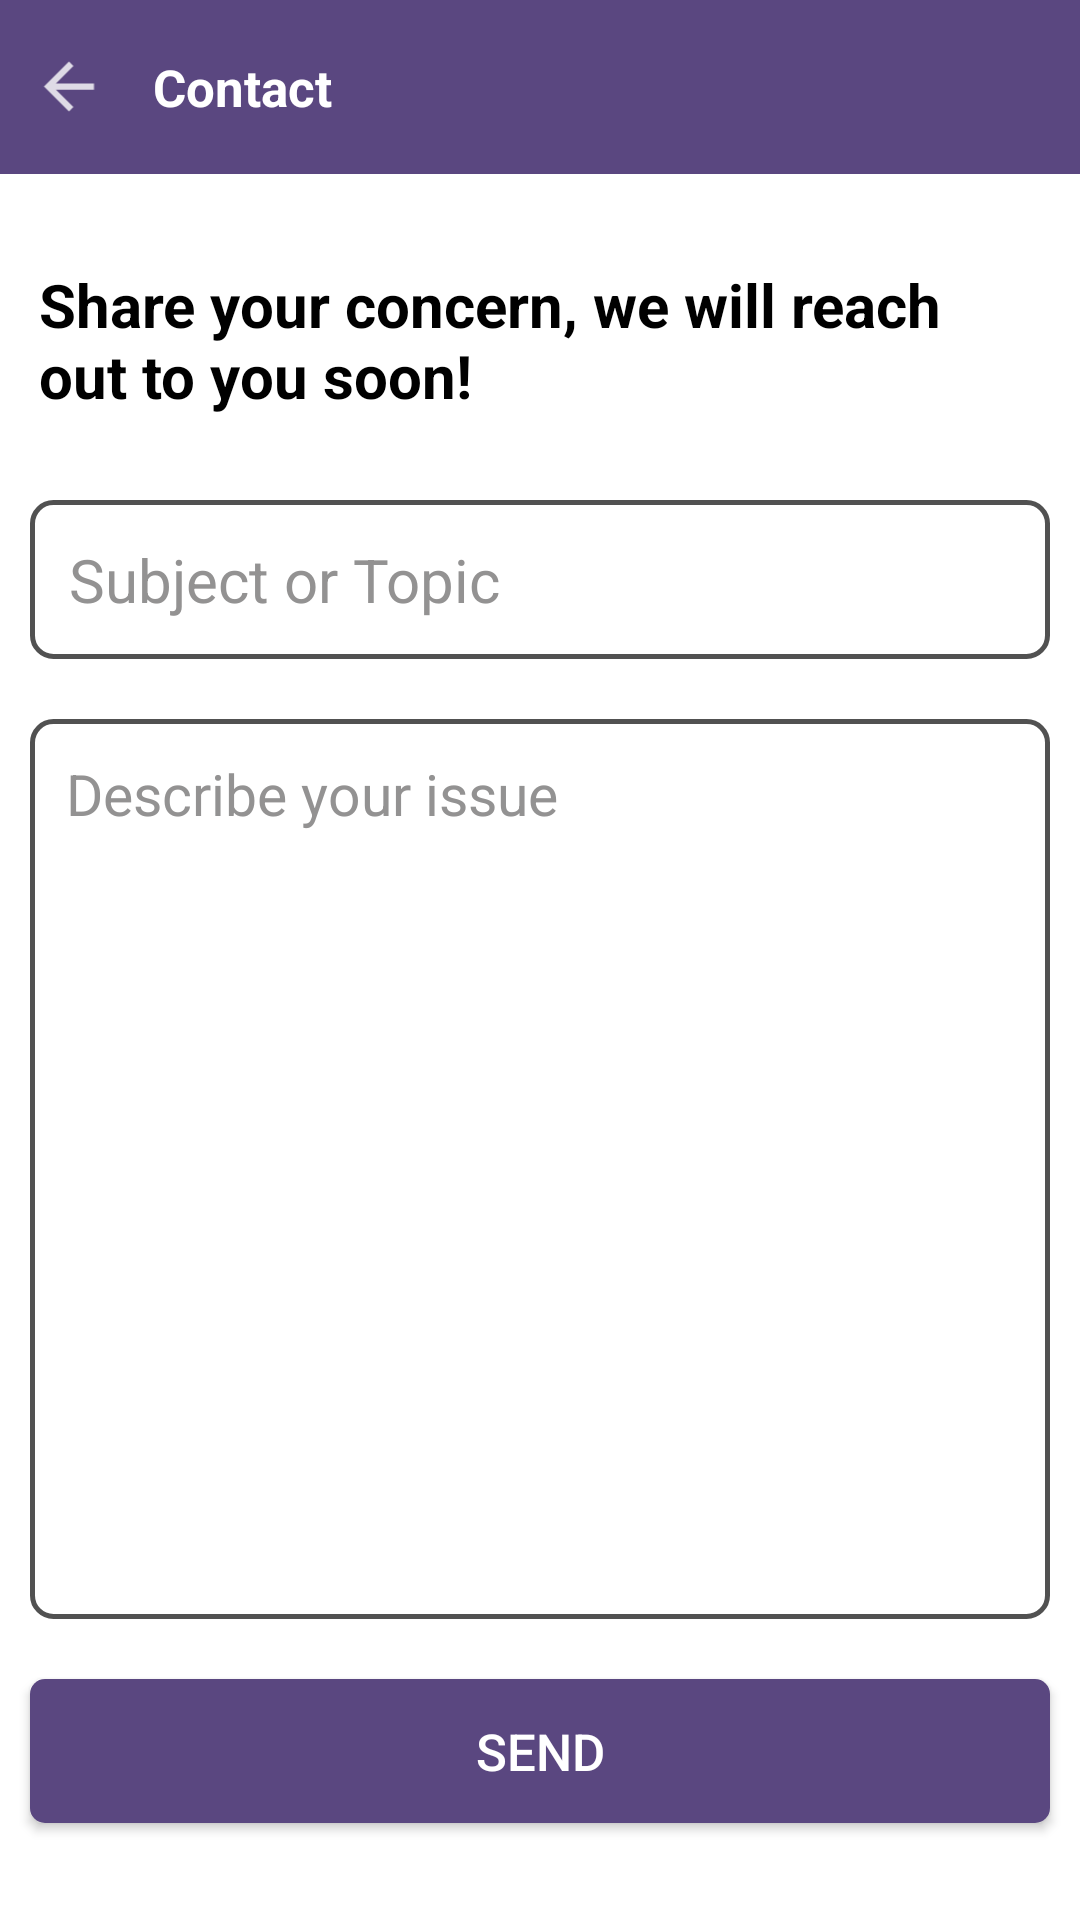

Where to tap for icons on this 1080 x 1920 app screen, as (x,y):
back: (69,86)
